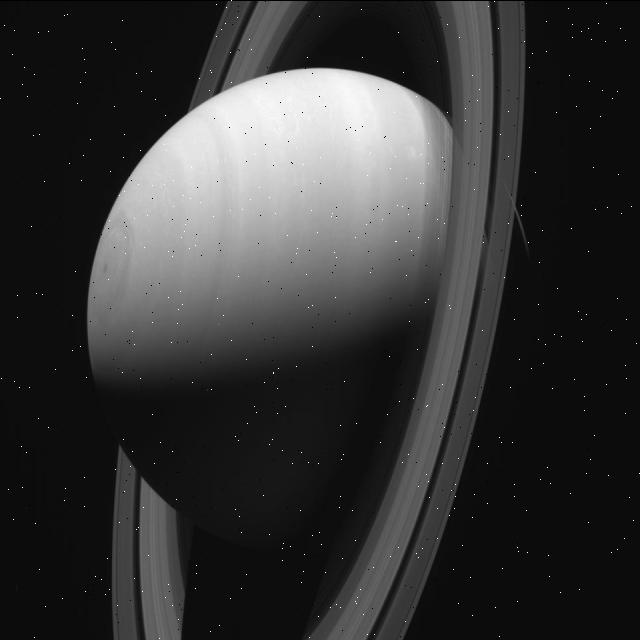Saturn: (86, 0, 538, 640)
